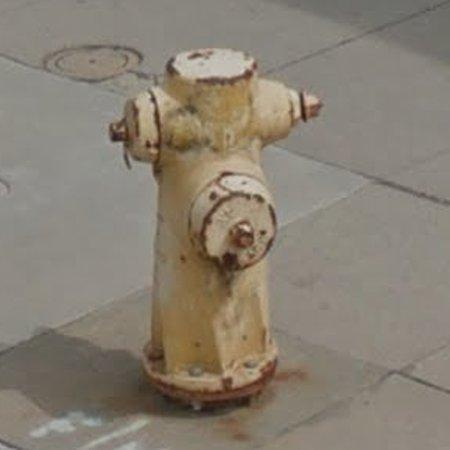a fire hydrant: (109, 48, 322, 406)
